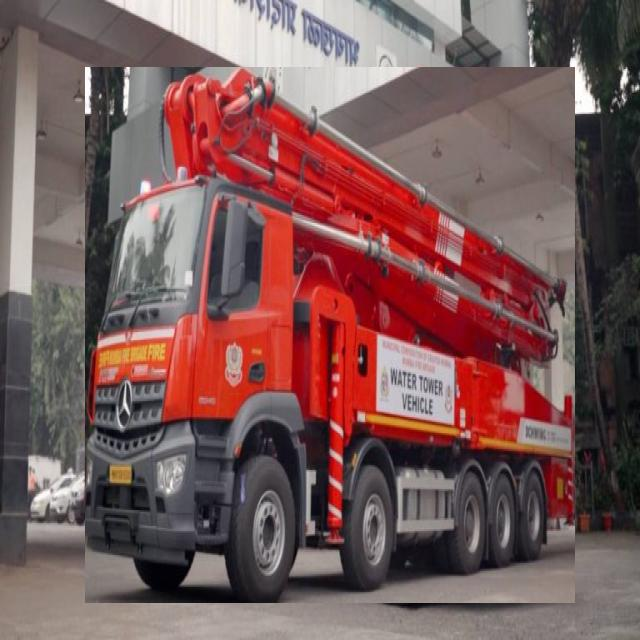emergency: (85, 67, 575, 603)
